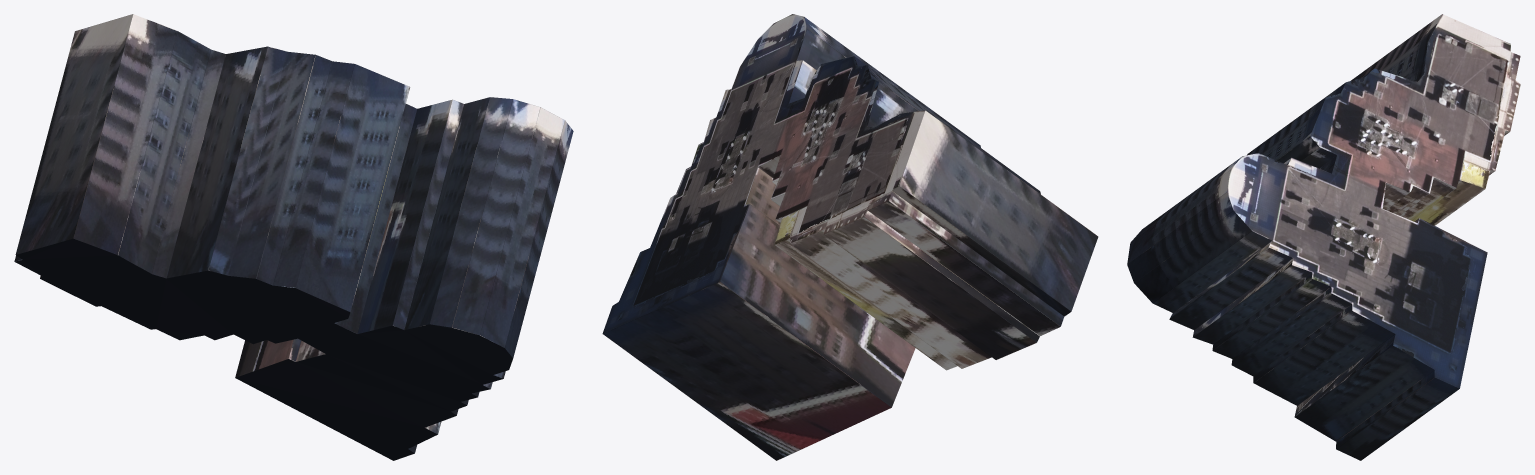
3 renders of one model, left to right at view 1: azimuth 30°, elevation 25°; view 2: azimuth 150°, elevation 25°; view 3: azimuth 270°, elevation 25°, orthographic. The views are drawn at different scales.
Bounding box in the file's own units: 61.3 × 57.03 × 55.6.
Materials: 1 (1 with a texture image).
